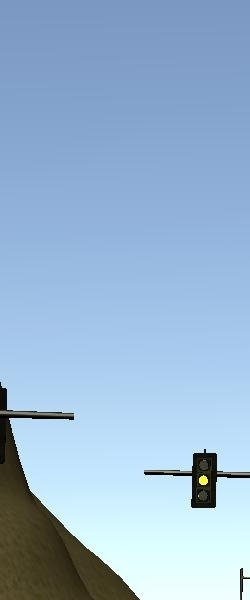Yellow: (192, 453, 217, 510)
